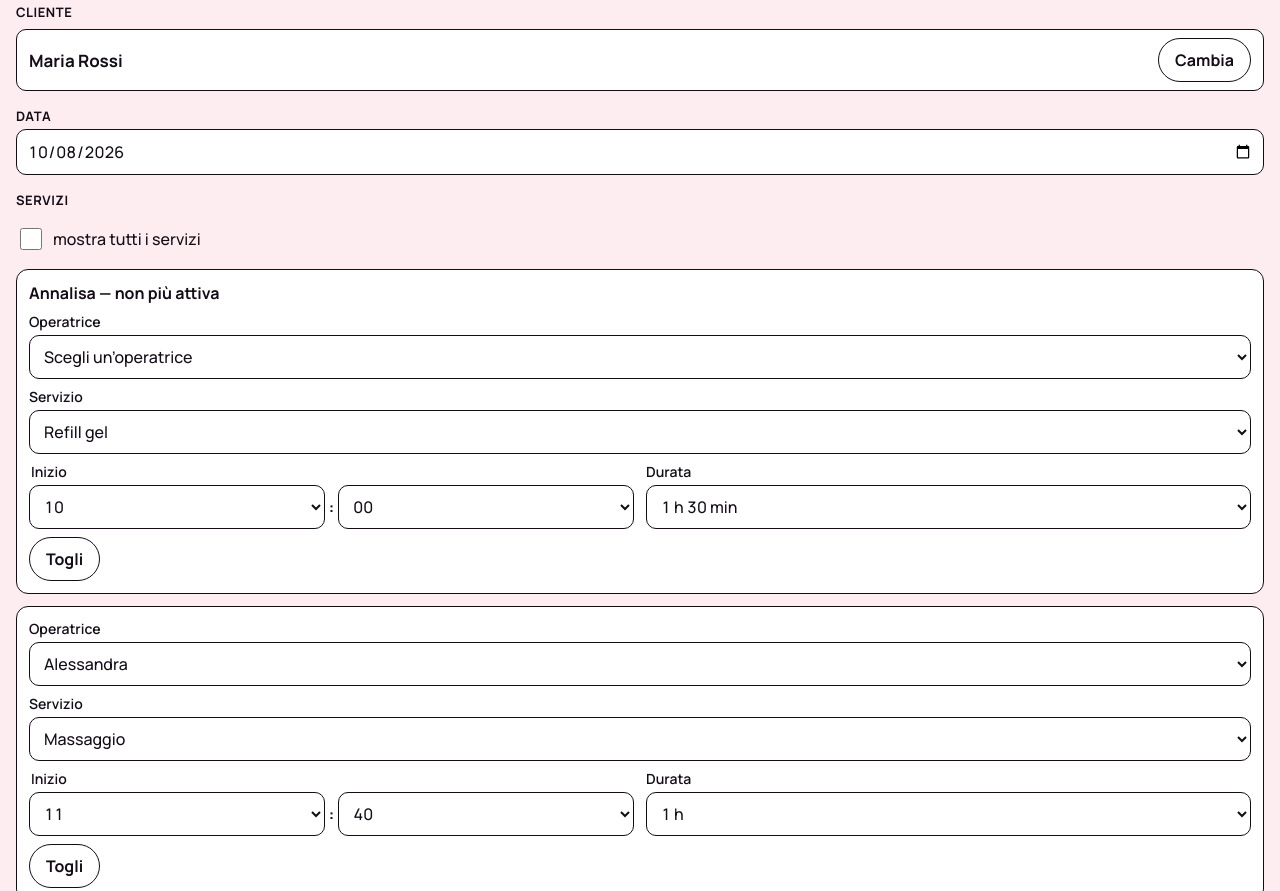
Test: D2-2: l elenco delle operatrici della scheda › la gemella: scelta un operatrice attiva, «Salva» si accende
This screenshot has width=1280, height=891.
Select "Vera" in the dropdown labelled "Operatrice" below "— non più attiva" at point(640, 357), box [29, 335, 1251, 379]
(page scrolled)
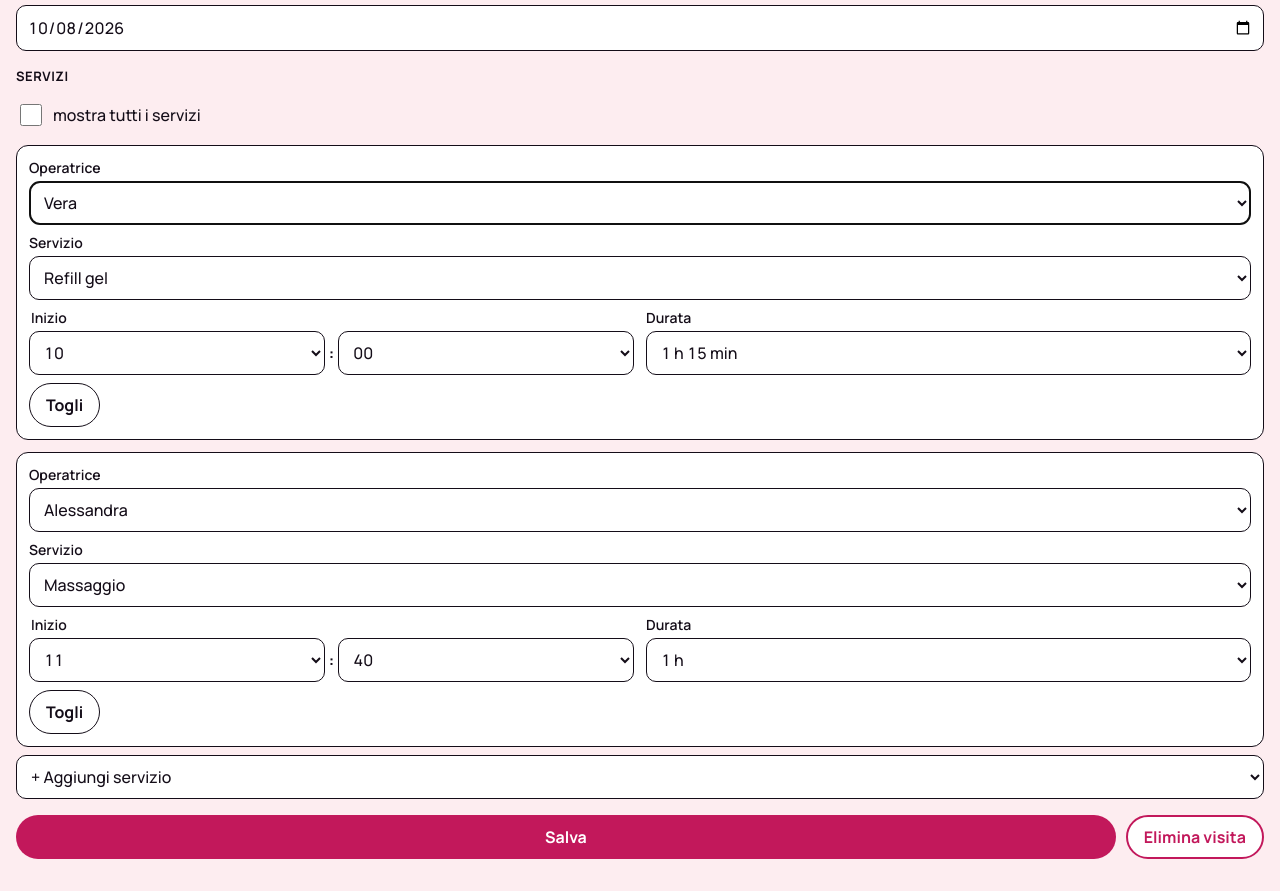
Now the button "Salva" is enabled, box [16, 815, 1116, 859]
Now the text "Annalisa — non più attiva" is gone
